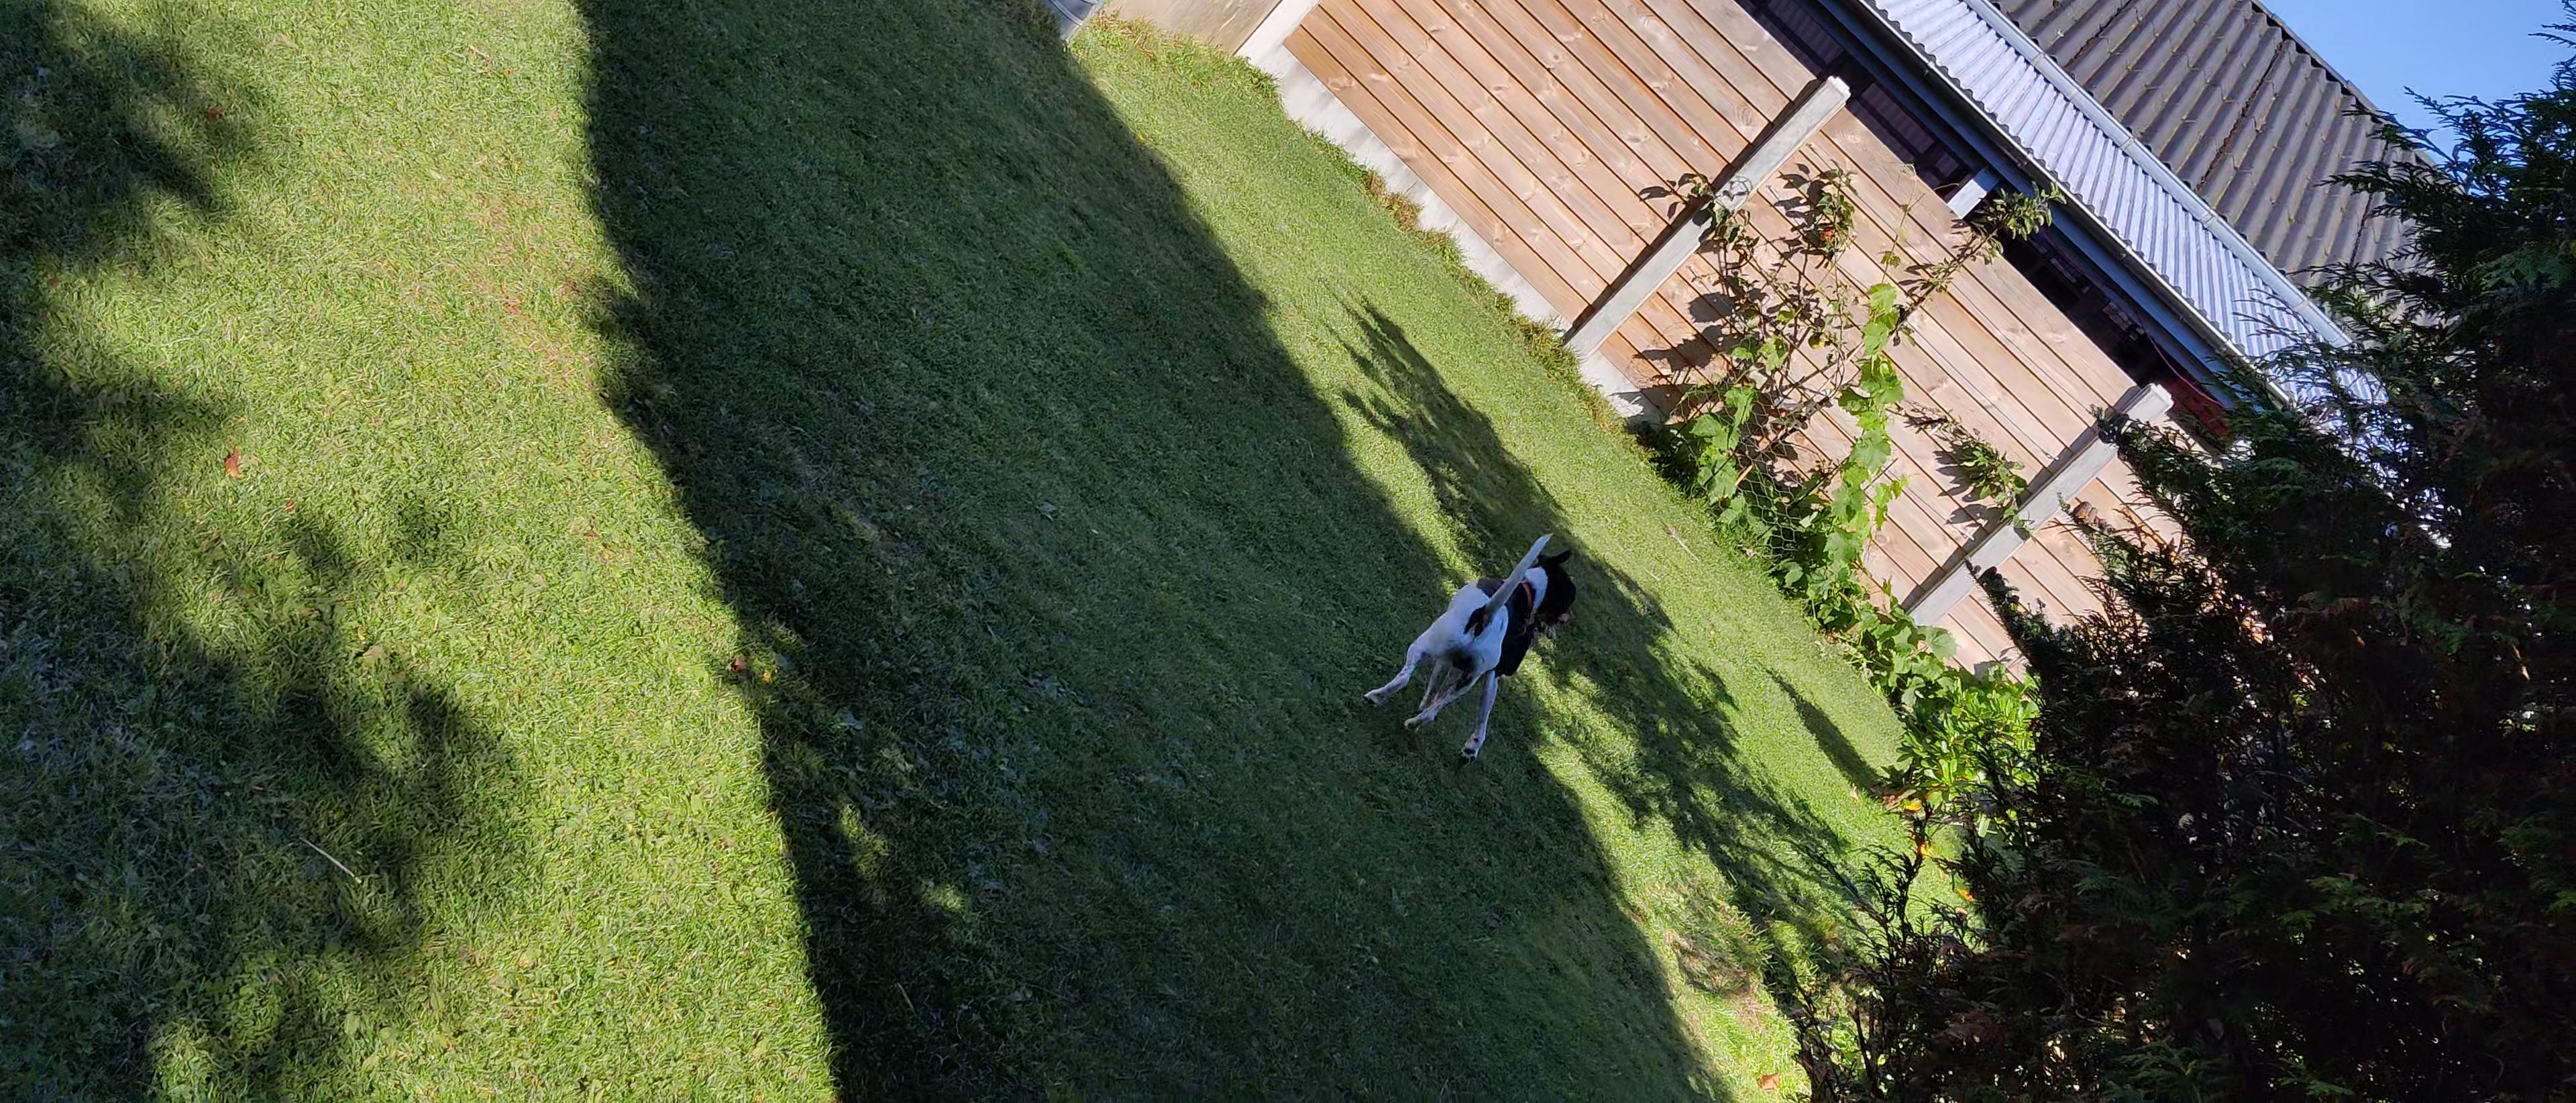Dog: (1339, 519, 1605, 774)
